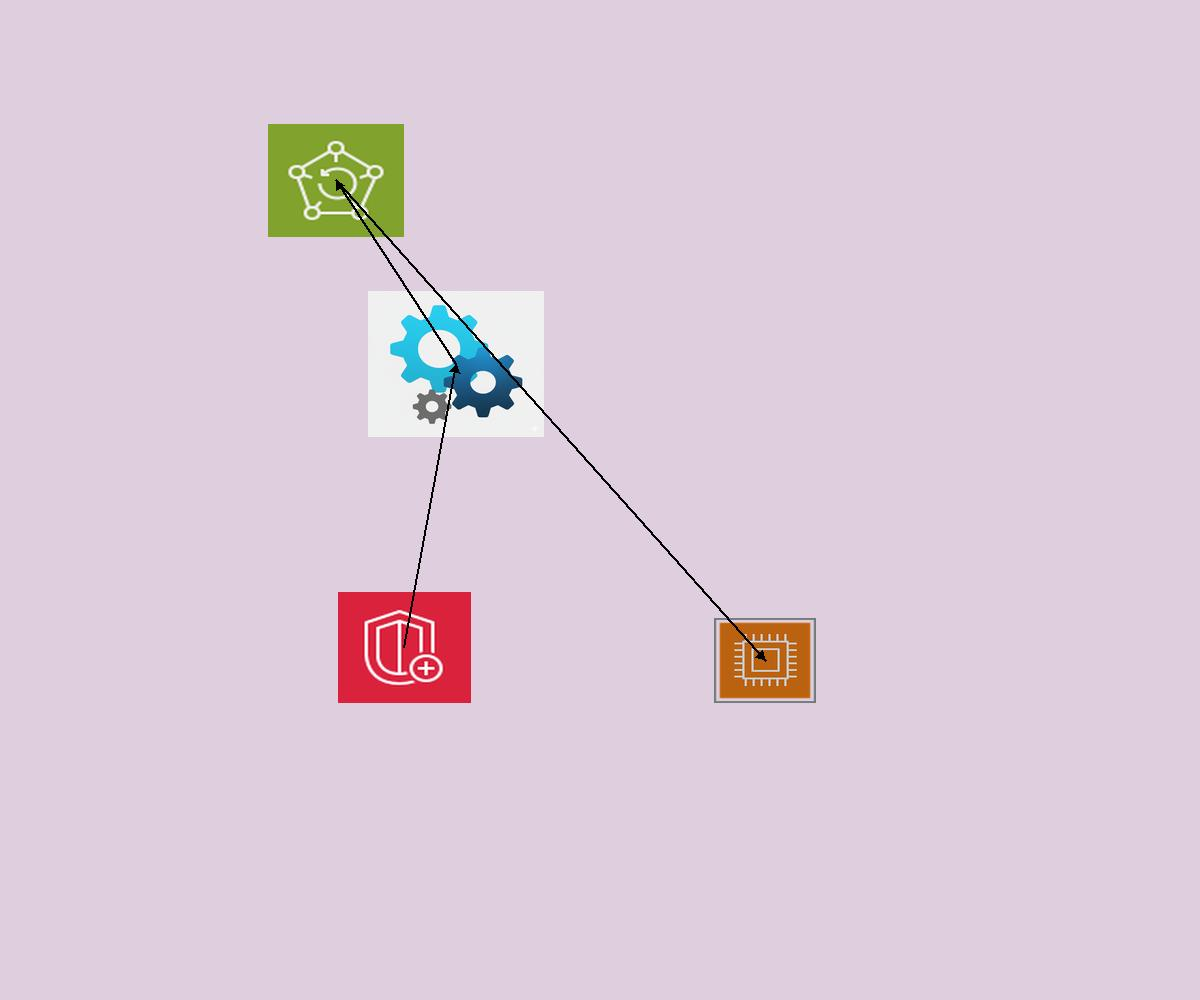AWS-Backup: (268, 124, 404, 237)
AWS-Category_Compute: (714, 618, 816, 703)
AWS-Shield: (338, 592, 471, 703)
Azure_api: (368, 291, 544, 437)
